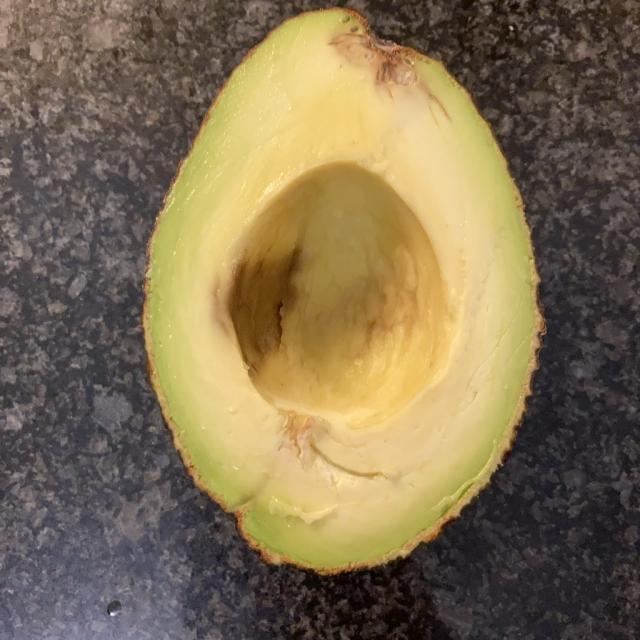avocado: (147, 23, 536, 568)
